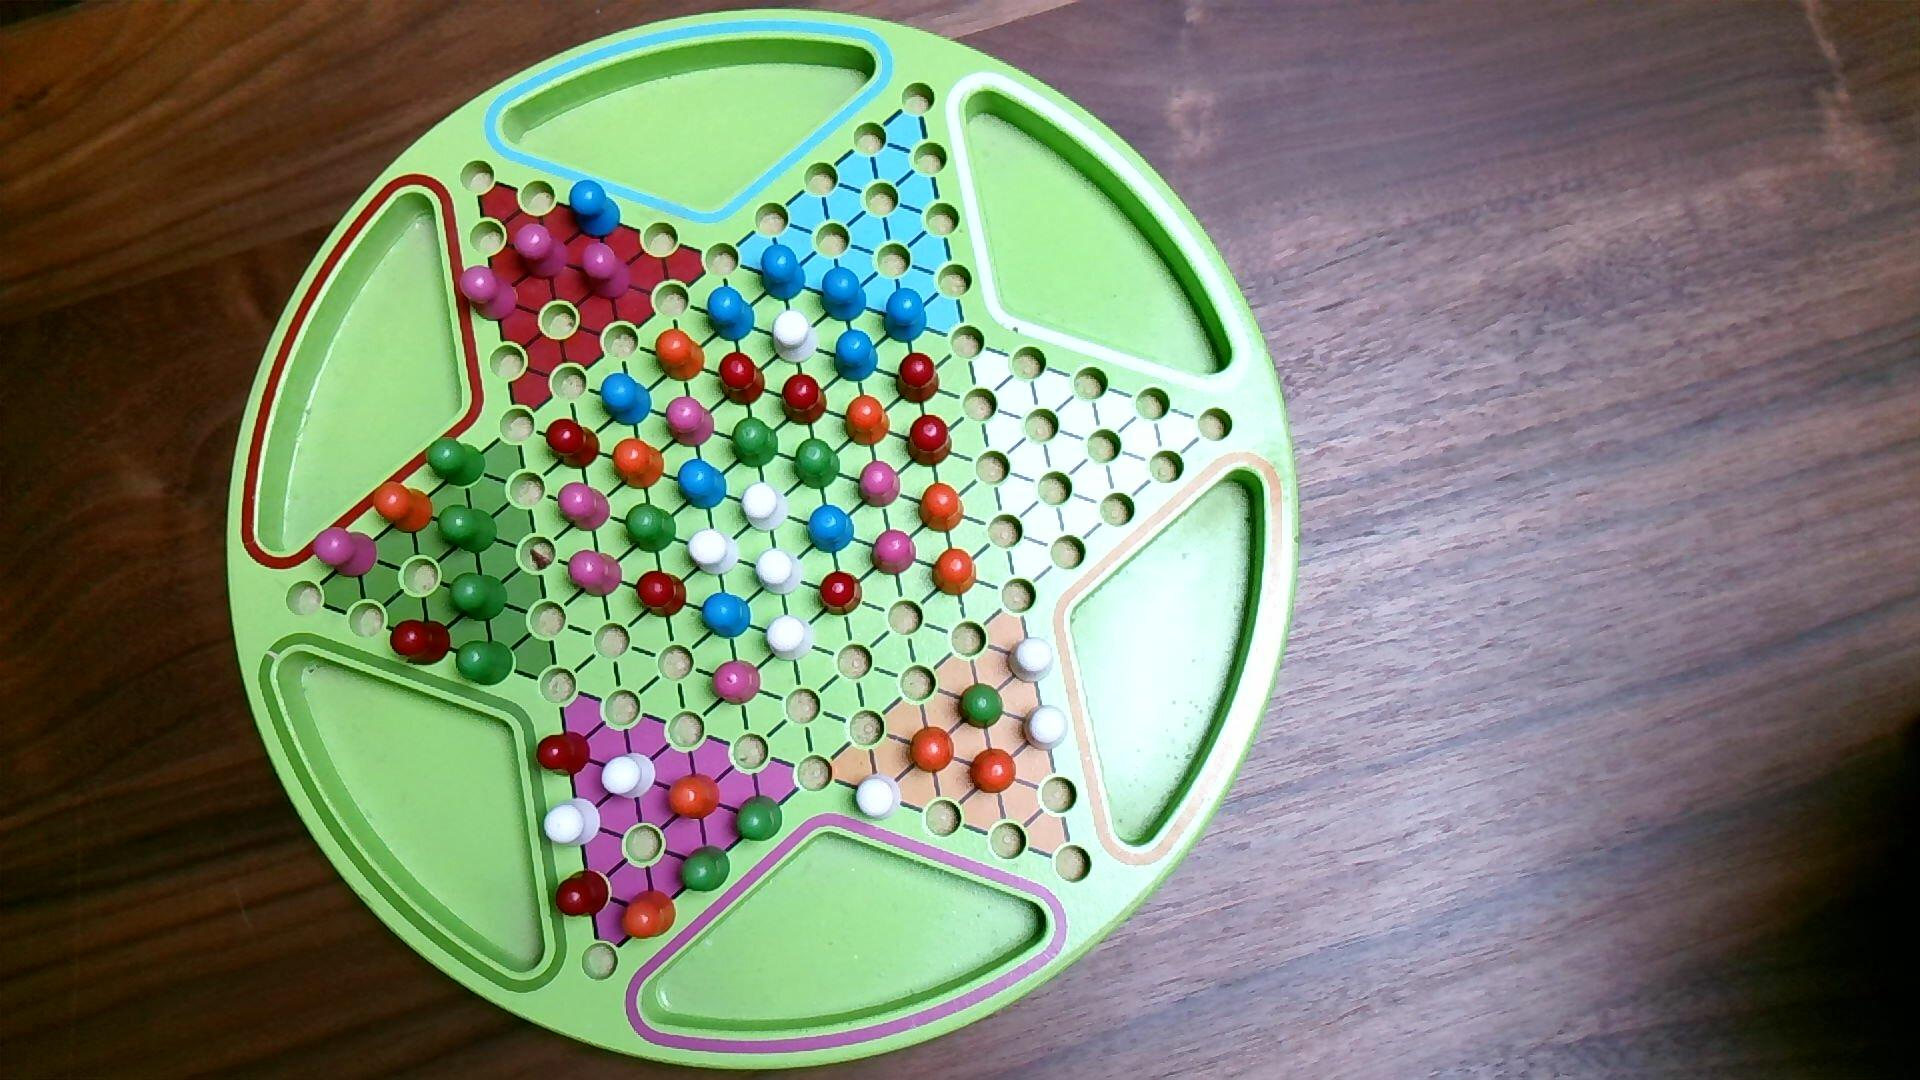B: (567, 179, 622, 243), (599, 371, 654, 429), (760, 243, 808, 305), (676, 458, 729, 513), (705, 287, 757, 344), (820, 265, 869, 324), (831, 328, 881, 385), (804, 502, 856, 556), (881, 287, 928, 345), (700, 591, 753, 642)
G: (425, 436, 488, 489), (436, 504, 498, 556), (448, 572, 509, 624), (455, 640, 516, 688), (624, 502, 678, 555), (793, 436, 843, 492), (731, 415, 781, 469), (678, 845, 732, 894), (735, 795, 785, 844), (957, 682, 1006, 731)
O: (372, 480, 436, 535), (611, 436, 667, 492), (618, 889, 678, 942), (654, 327, 707, 384), (666, 771, 723, 823), (916, 481, 967, 535), (843, 394, 891, 450), (968, 746, 1019, 796), (930, 546, 978, 599), (909, 725, 957, 775)
R: (389, 618, 454, 669), (545, 418, 603, 472), (554, 869, 612, 920), (717, 351, 767, 407), (535, 731, 593, 779), (779, 373, 829, 429), (905, 413, 953, 469), (634, 570, 688, 620), (895, 351, 942, 406), (818, 568, 864, 618)
R2: (458, 264, 520, 324), (311, 526, 378, 580), (512, 222, 571, 281), (579, 241, 633, 302), (556, 481, 613, 534), (566, 549, 624, 600), (665, 396, 717, 450), (711, 658, 764, 708), (870, 527, 918, 578), (857, 460, 902, 510)
W: (543, 796, 603, 851), (600, 752, 658, 802), (771, 309, 820, 367), (687, 527, 741, 578), (740, 481, 791, 533), (852, 771, 905, 822), (765, 615, 816, 665), (1006, 637, 1056, 686), (1021, 704, 1069, 753), (756, 549, 804, 597)
